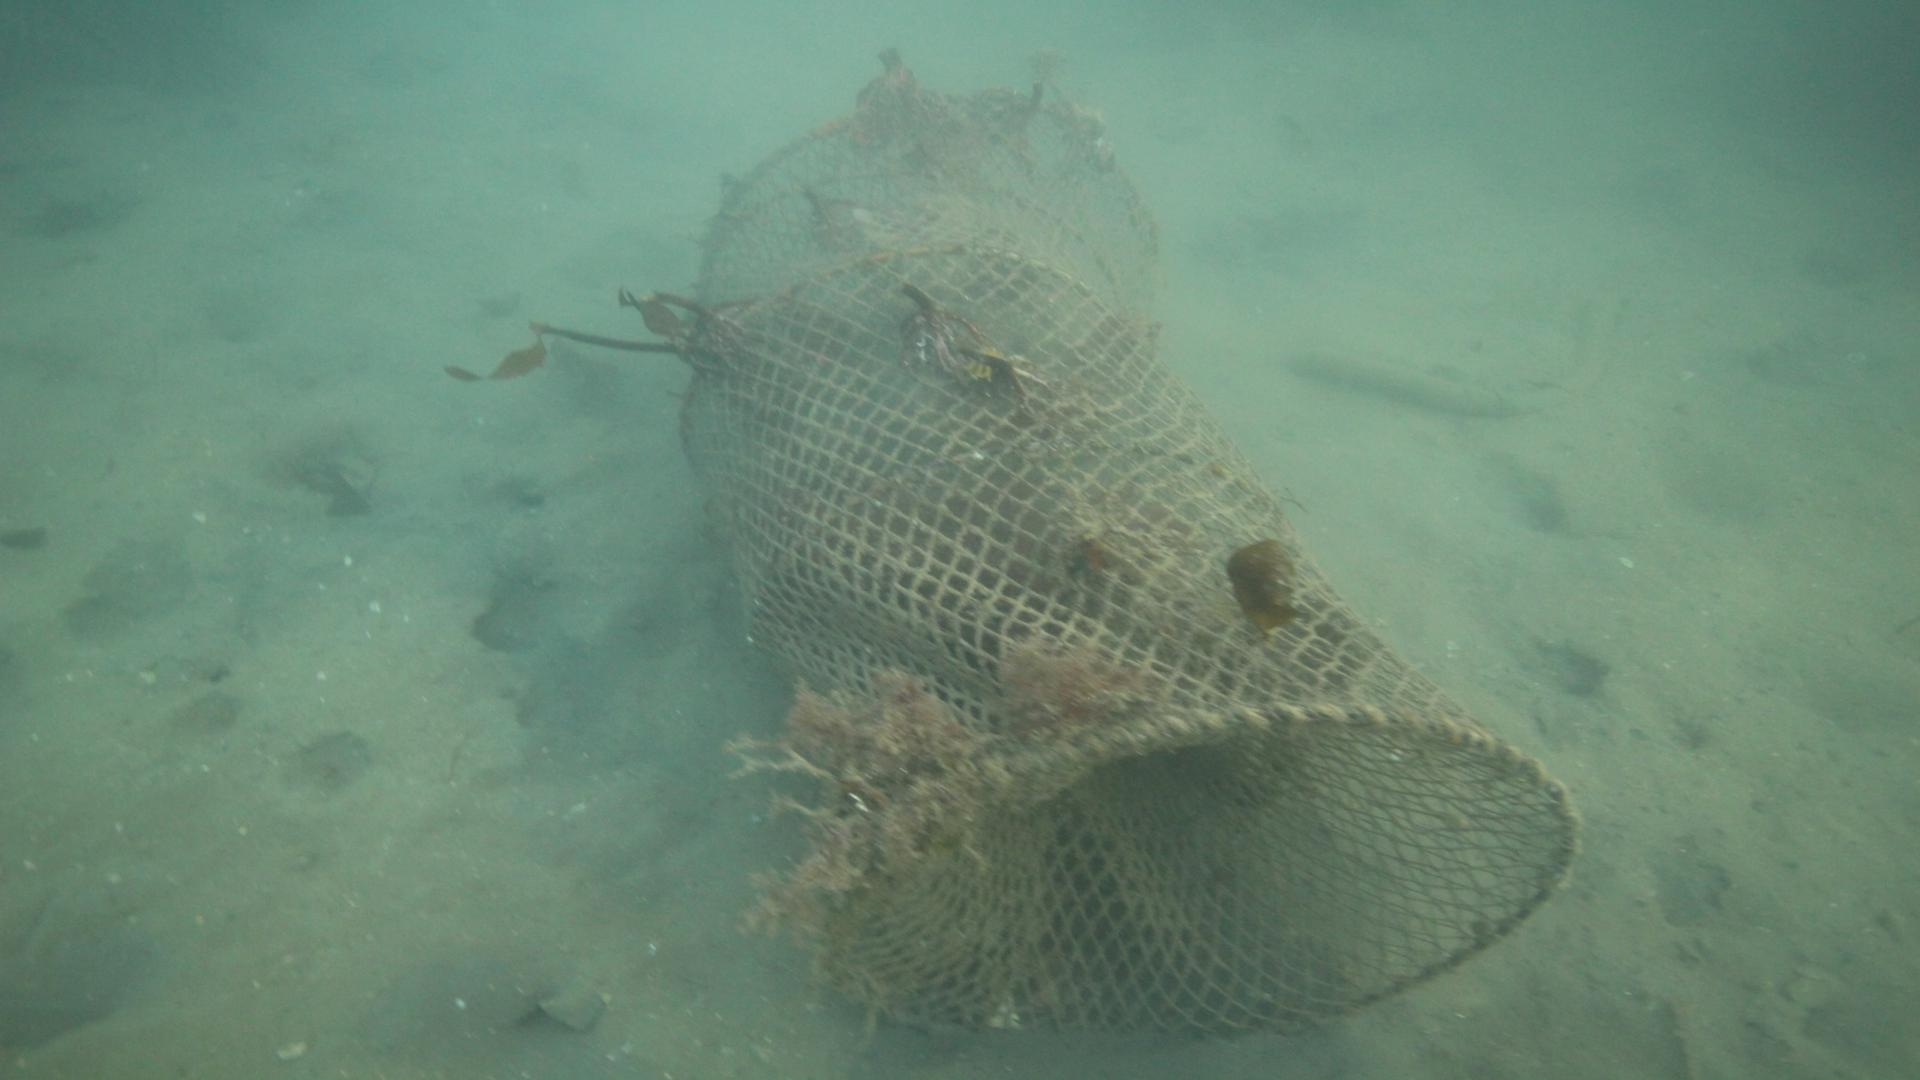spring fish trap: (676, 84, 1582, 1038)
